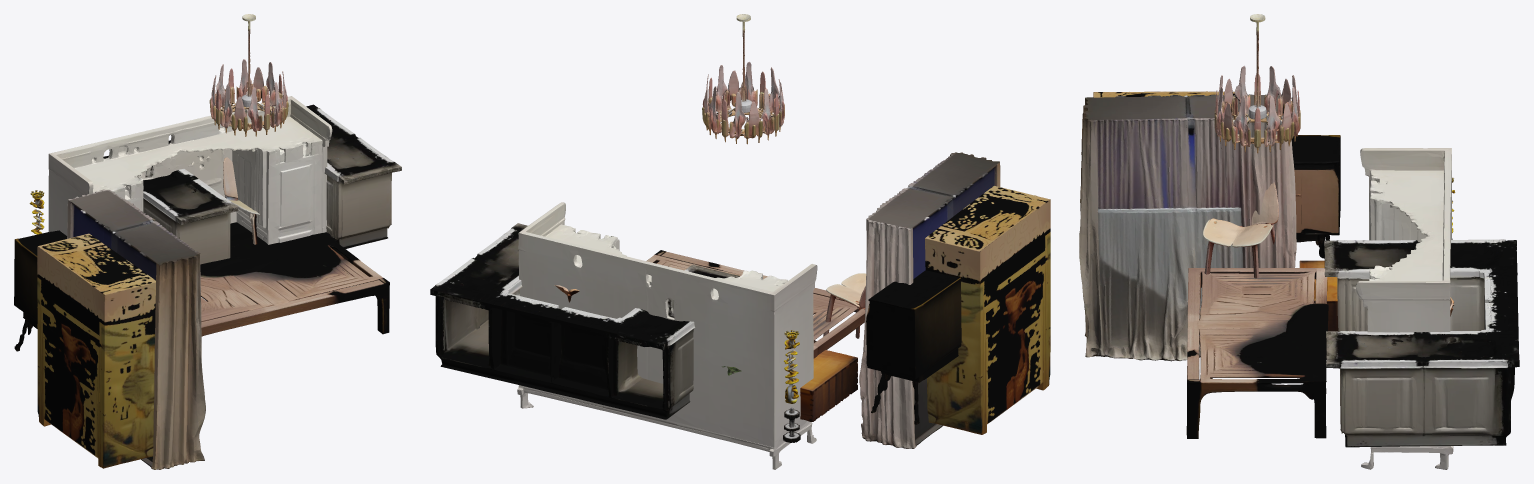
The model's file is scenegen.glb.
3 views of the same model, side by side, from view 1: azimuth 30°, elevation 25°; view 2: azimuth 150°, elevation 25°; view 3: azimuth 270°, elevation 25° (orthographic). The views are drawn at different scales.
Visible parts, largest first — view 1: geometry_4, geometry_12, geometry_1, geometry_13, geometry_14, geometry_0, geometry_11, geometry_10, geometry_7; view 2: geometry_12, geometry_13, geometry_4, geometry_1, geometry_11, geometry_0, geometry_14, geometry_3, geometry_7, geometry_2; view 3: geometry_1, geometry_13, geometry_14, geometry_12, geometry_0, geometry_11, geometry_2, geometry_3, geometry_4.
Boxes of the visible parts, <box> form: geometry_4: <box>37,233,155,468</box>; geometry_12: <box>48,96,332,244</box>; geometry_1: <box>67,189,205,469</box>; geometry_13: <box>103,104,401,264</box>; geometry_14: <box>200,236,389,336</box>; geometry_0: <box>209,14,288,136</box>; geometry_11: <box>14,230,66,351</box>; geometry_10: <box>223,157,260,244</box>; geometry_7: <box>29,190,44,234</box>; geometry_12: <box>517,202,817,469</box>; geometry_13: <box>430,223,739,419</box>; geometry_4: <box>925,186,1050,434</box>; geometry_1: <box>859,152,1000,448</box>; geometry_11: <box>866,270,961,424</box>; geometry_0: <box>702,14,784,144</box>; geometry_14: <box>646,250,865,358</box>; geometry_3: <box>800,350,857,421</box>; geometry_7: <box>783,330,800,442</box>; geometry_2: <box>823,273,866,338</box>; geometry_1: <box>1079,94,1296,361</box>; geometry_13: <box>1324,239,1519,447</box>; geometry_14: <box>1186,268,1328,438</box>; geometry_12: <box>1356,148,1453,469</box>; geometry_0: <box>1214,14,1300,153</box>; geometry_11: <box>1291,135,1340,258</box>; geometry_2: <box>1201,182,1278,302</box>; geometry_3: <box>1299,260,1338,331</box>; geometry_4: <box>1093,91,1234,97</box>.
Size of the model in its own units: 1.96 by 1.68 by 1.65.
Materials: 15 (14 with a texture image).
